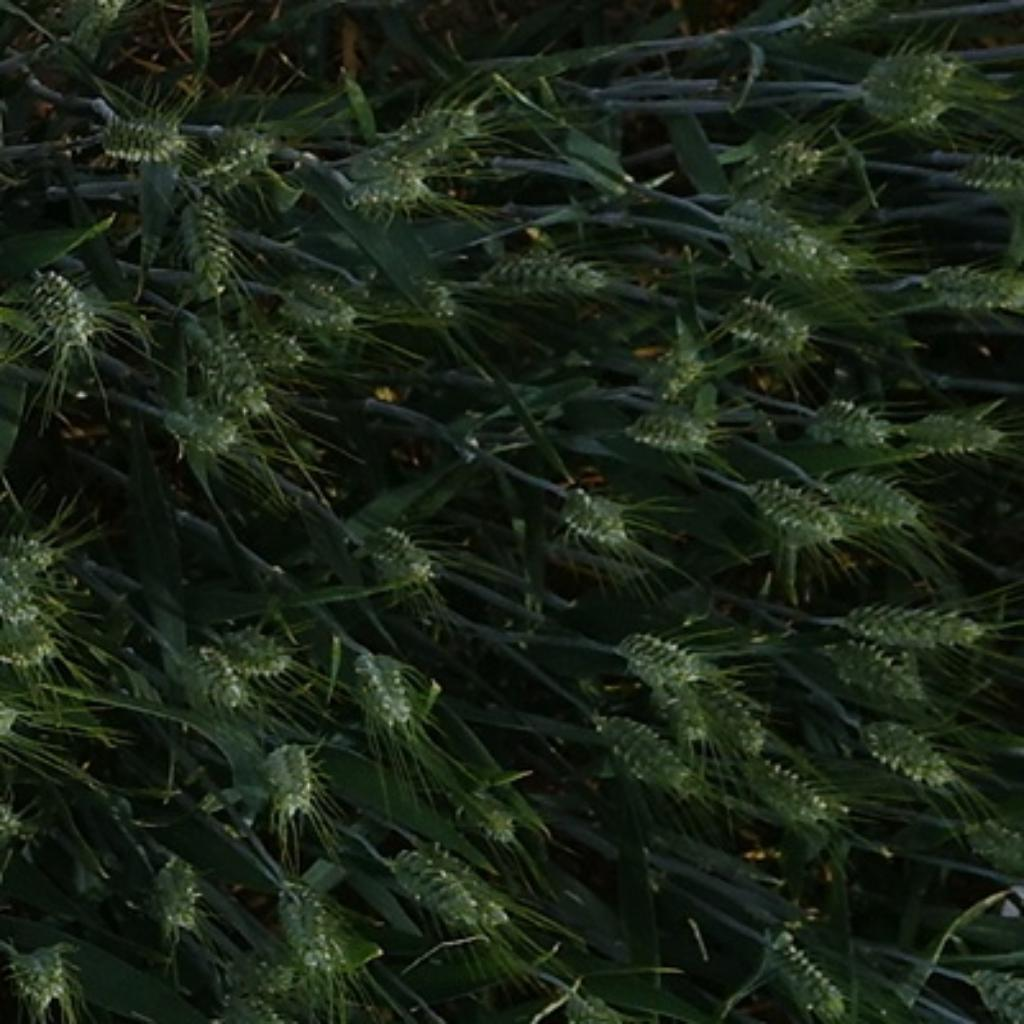0-0: (378, 832, 514, 939), (267, 871, 367, 991), (837, 588, 1003, 657), (179, 309, 284, 417), (674, 653, 773, 751), (632, 325, 737, 417), (752, 919, 849, 1018), (473, 238, 611, 307), (593, 710, 701, 797), (729, 747, 839, 832), (737, 468, 847, 550), (366, 94, 496, 163), (826, 632, 942, 709), (711, 184, 824, 261), (325, 153, 448, 222), (351, 649, 438, 744), (38, 0, 153, 71), (448, 773, 542, 857), (855, 711, 957, 788), (23, 262, 110, 352), (345, 514, 442, 593), (168, 179, 240, 284), (204, 611, 307, 683), (545, 473, 637, 552), (158, 381, 250, 460), (903, 396, 1016, 460), (89, 94, 189, 166), (273, 261, 360, 343), (714, 286, 811, 358), (737, 122, 832, 194), (197, 115, 279, 197), (184, 634, 258, 724), (616, 613, 706, 687), (821, 465, 921, 529), (616, 394, 719, 455), (133, 849, 209, 931), (389, 258, 473, 332), (250, 732, 325, 814), (7, 936, 84, 1015), (798, 389, 896, 450), (647, 676, 714, 762), (755, 225, 860, 279), (955, 943, 1024, 1022), (861, 80, 972, 129), (934, 135, 1021, 197), (924, 261, 1024, 314), (788, 0, 916, 41), (219, 948, 314, 998), (958, 809, 1022, 880), (0, 622, 76, 678), (207, 980, 294, 1023), (862, 46, 960, 84), (0, 563, 43, 637), (0, 532, 73, 573), (561, 984, 628, 1024)
